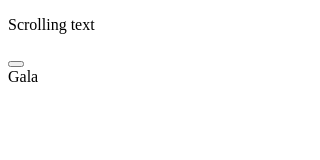
Test: scroll_area_and_select_work_with_style_elements_off
Expected: the text "Scrolling text" is shown, left=8, top=16, right=95, bottom=33
Click the option "Gala". click: (23, 77)
box: left=8, top=68, right=38, bottom=86
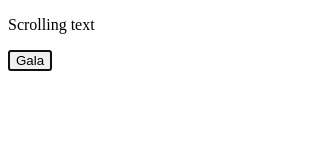
Now the dropdown named "Probe select" reads "Gala", box left=8, top=50, right=52, bottom=71
